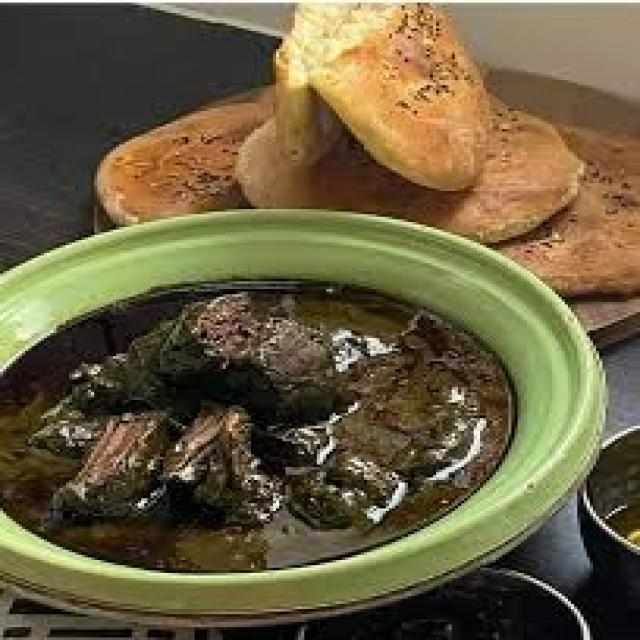Melloukhia: (1, 235, 554, 578)
